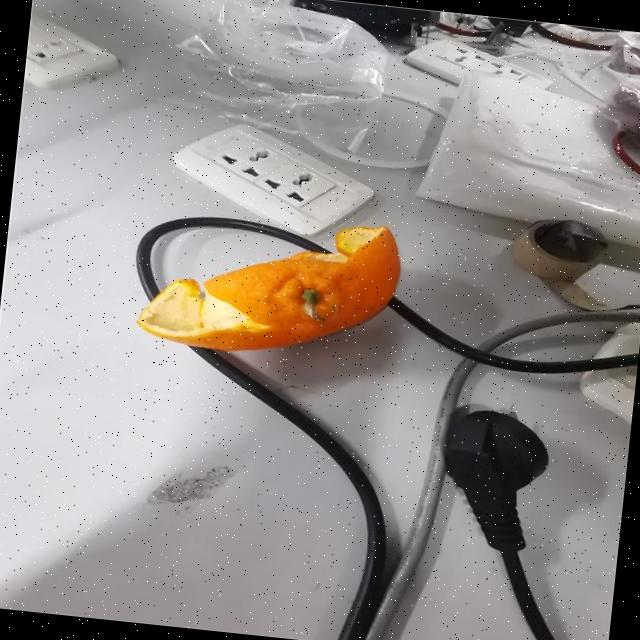orange-peel: (132, 198, 406, 368)
